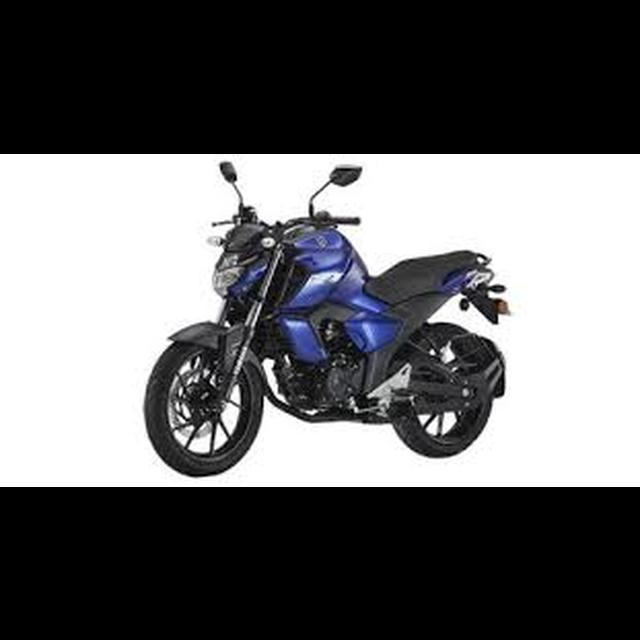motorcycle: (137, 153, 515, 480)
